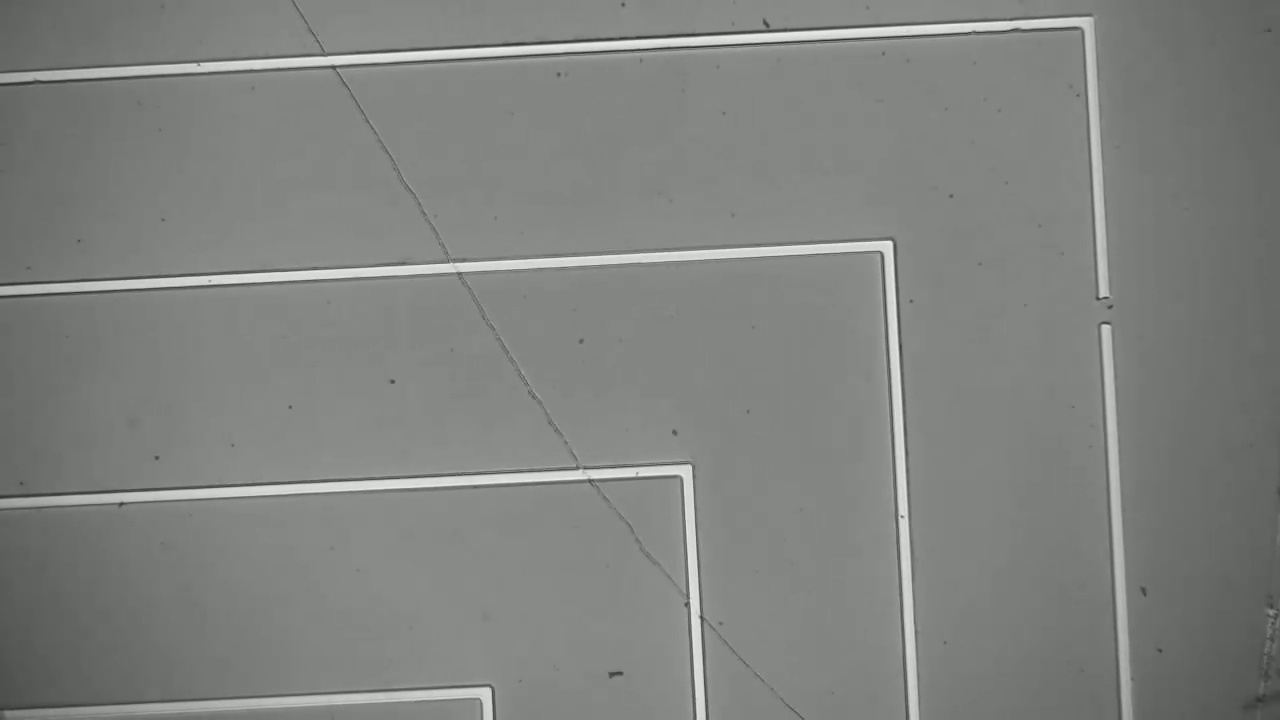open: (1077, 281, 1129, 348)
scratch: (285, 0, 799, 713), (1234, 589, 1279, 719)
